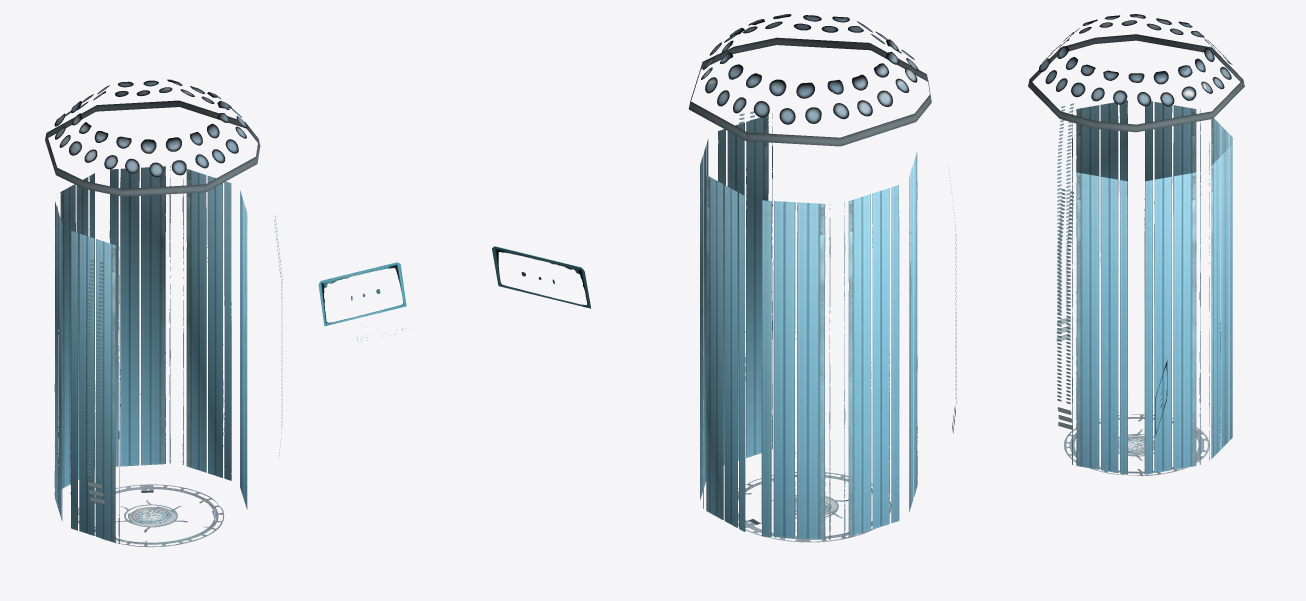
File: RespawnChamber.fbx
3 views of the same model, side by side, from view 1: azimuth 30°, elevation 25°; view 2: azimuth 150°, elevation 25°; view 3: azimuth 270°, elevation 25° (orthographic). The views are drawn at different scales.
Visible parts, largest first — view 1: polySurface140; view 2: polySurface140; view 3: polySurface140.
Part boxes in pixels (x1=…): polySurface140: x1=45, y1=79, x2=412, y2=547; polySurface140: x1=492, y1=14, x2=956, y2=542; polySurface140: x1=1028, y1=14, x2=1244, y2=476.
Bounding box in the file's own units: 3.17 × 3.25 × 2.11.
